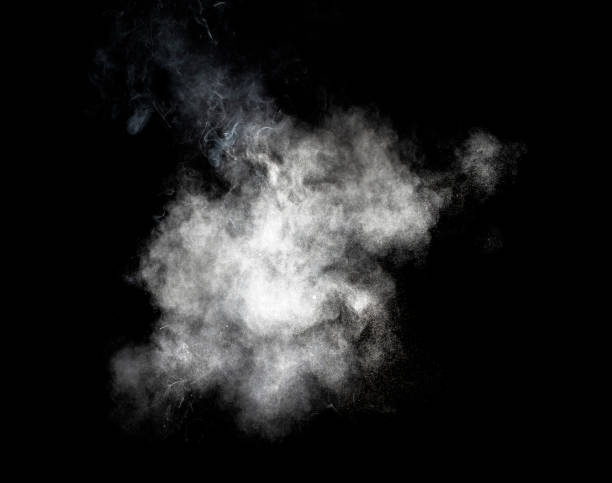smoke: (129, 111, 424, 425)
